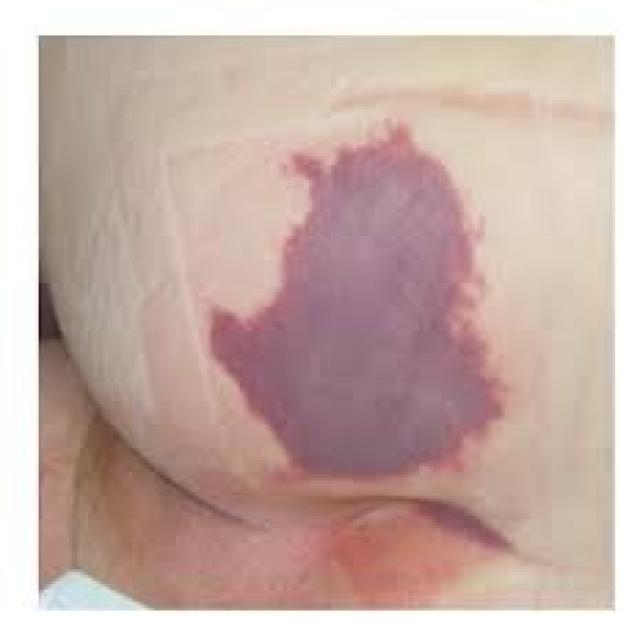DTI: (214, 124, 505, 485), (410, 497, 512, 552)
